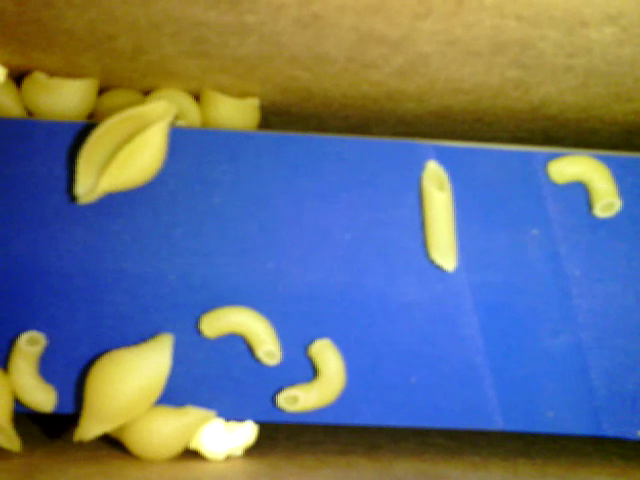elbow: (273, 337, 348, 414), (198, 304, 283, 367), (547, 153, 623, 219), (8, 329, 59, 412)
penne: (421, 158, 460, 273)
shell: (73, 330, 173, 443), (73, 98, 171, 203), (100, 403, 218, 461), (21, 69, 100, 122), (200, 82, 261, 128)
